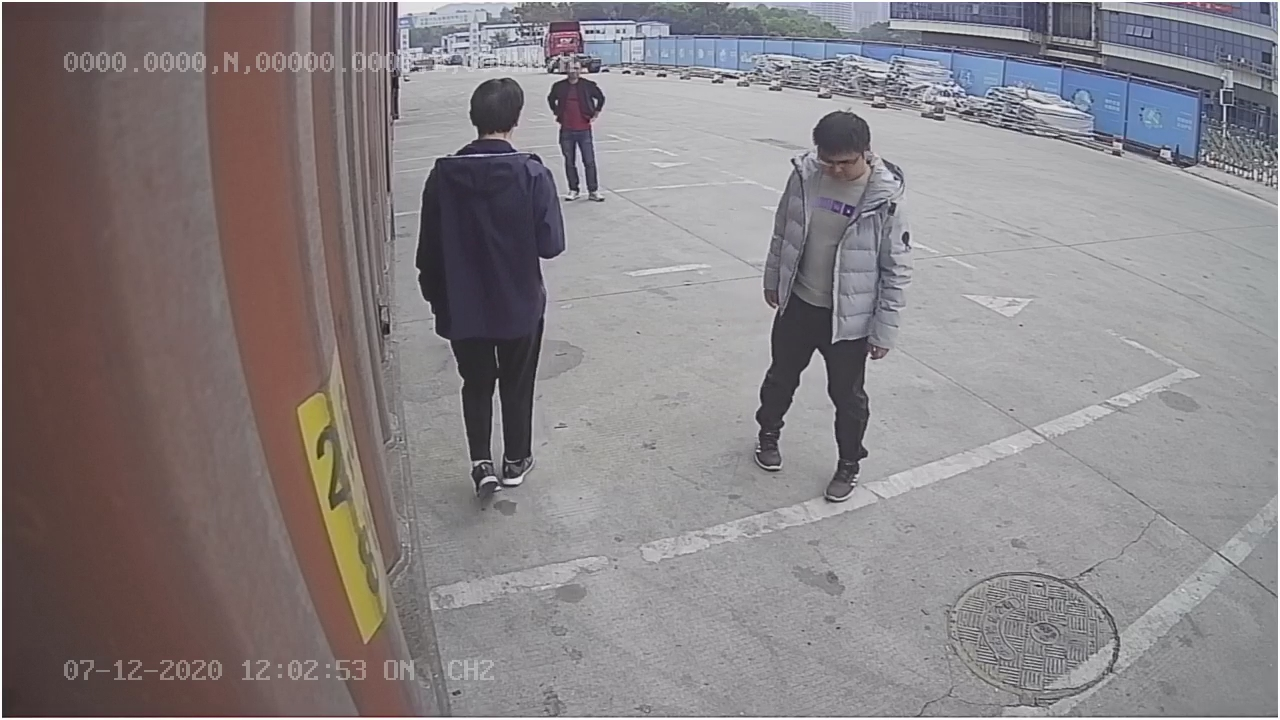person: (750, 111, 907, 501)
